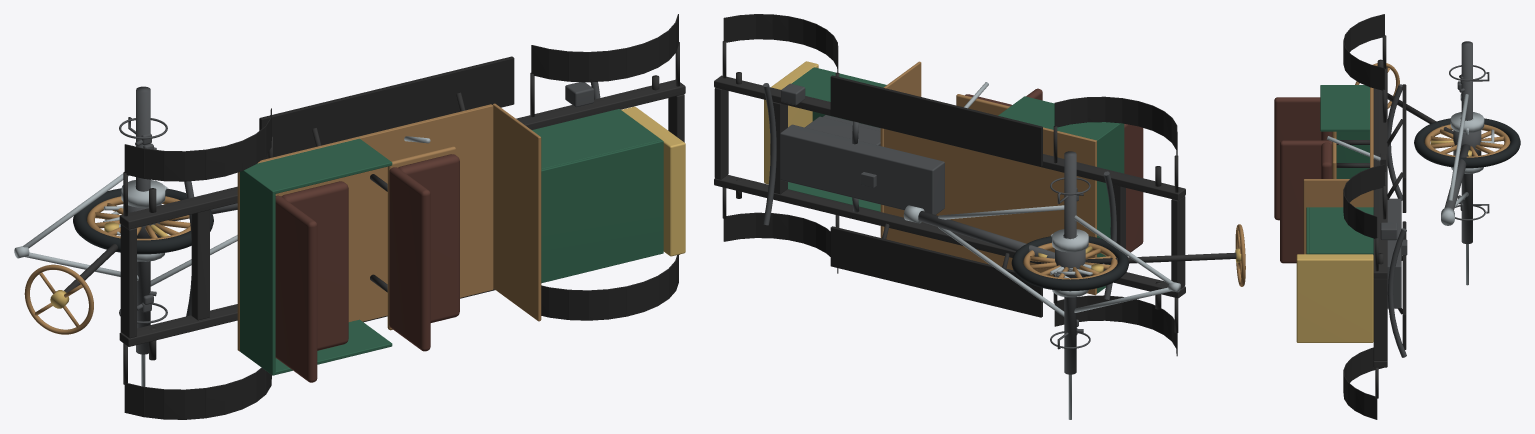
The model's file is car.glb.
The picture shows the model from 3 angles, left to right: view 1: azimuth 30°, elevation 25°; view 2: azimuth 150°, elevation 25°; view 3: azimuth 270°, elevation 25°; orthographic projection. The views are drawn at different scales.
Parts seen in each view (by area): view 1: chassis|133, chassis|153, chassis|205, chassis|132, chassis|147, chassis|146, chassis|152, chassis|145, chassis|139, chassis|1, chassis|150, chassis|151 (+32 smaller); view 2: chassis|133, chassis|6, chassis|205, chassis|178, chassis|0, chassis|1, front_left|71, chassis|147, rear_axle|47, chassis|150, chassis|152, rear_axle|49 (+21 smaller); view 3: chassis|118, chassis|146, chassis|147, chassis|151, chassis|150, chassis|1, front_left|71, chassis|132, rear_axle|47, chassis|3, chassis|6, chassis|152 (+25 smaller).
Part boxes in pixels (x1,y1,x2,y2): chassis|133: [237, 104, 493, 351]; chassis|153: [541, 140, 663, 283]; chassis|205: [259, 56, 514, 160]; chassis|132: [492, 103, 541, 321]; chassis|147: [275, 195, 317, 382]; chassis|146: [389, 167, 430, 351]; chassis|152: [240, 169, 275, 374]; chassis|145: [281, 181, 348, 350]; chassis|139: [398, 154, 459, 322]; chassis|1: [119, 79, 685, 229]; chassis|150: [242, 138, 392, 193]; chassis|151: [532, 109, 661, 169]; chassis|133: [884, 127, 1096, 295]; chassis|6: [780, 124, 944, 214]; chassis|205: [830, 75, 1042, 166]; chassis|178: [830, 226, 1042, 317]; chassis|0: [714, 175, 1185, 298]; chassis|1: [714, 75, 1185, 200]; front_left|71: [1011, 236, 1128, 291]; chassis|147: [1124, 124, 1143, 252]; rear_axle|47: [1064, 151, 1076, 374]; chassis|150: [998, 96, 1122, 142]; chassis|152: [1097, 123, 1124, 293]; rear_axle|49: [918, 211, 1054, 258]; chassis|118: [1296, 254, 1373, 342]; chassis|146: [1280, 140, 1332, 263]; chassis|147: [1274, 97, 1320, 220]; chassis|151: [1309, 207, 1373, 254]; chassis|150: [1320, 85, 1369, 131]; chassis|1: [1373, 67, 1387, 278]; front_left|71: [1414, 118, 1520, 168]; chassis|132: [1303, 179, 1373, 254]; rear_axle|47: [1461, 41, 1472, 244]; chassis|3: [1373, 278, 1387, 360]; chassis|6: [1387, 198, 1401, 308]; chassis|152: [1336, 131, 1369, 178].
Bounding box in the file's own units: 4.03 × 1.92 × 1.76.
